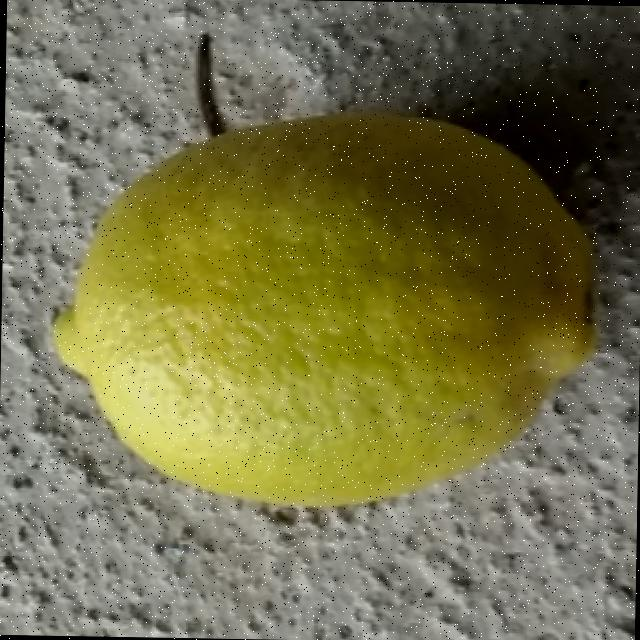Ripe: (39, 101, 606, 518)
